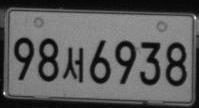3: (139, 41, 161, 85)
6: (89, 39, 111, 84)
8: (164, 41, 187, 86), (38, 37, 59, 82)
9: (114, 39, 137, 84), (13, 36, 35, 80)
서: (62, 47, 84, 82)
